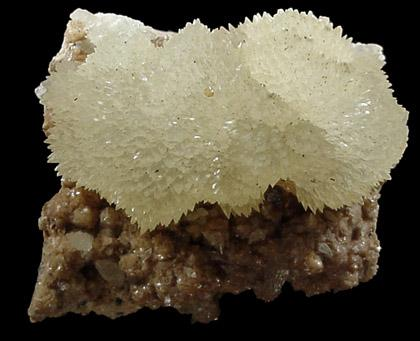calcite: (36, 9, 409, 231)
